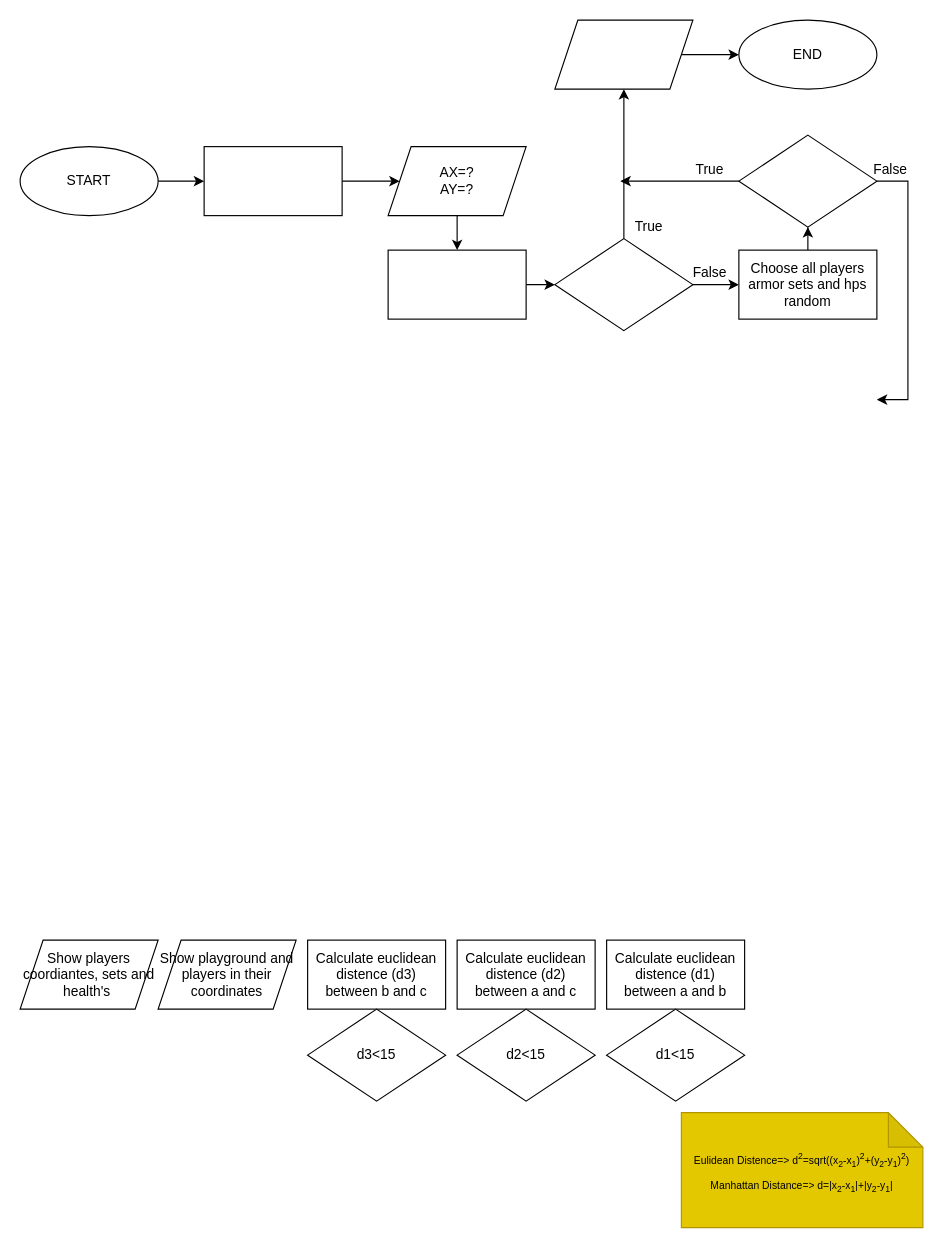
Some shapes in this 943 by 1248 pixel diagram are drawn without their labels. The shapes that lost their labels are listed below. From the top down, each one's box as (x1, y1, x2, y2) in pixels, then its label:
(554, 19, 693, 89): write "no fight"
(203, 145, 342, 216): make coordinate plane +10,-10 in x and y = playground
(738, 134, 877, 227): Player sets and hp's same
(387, 249, 526, 319): B cordinates random
(554, 237, 693, 331): Players coordinates lengths same
